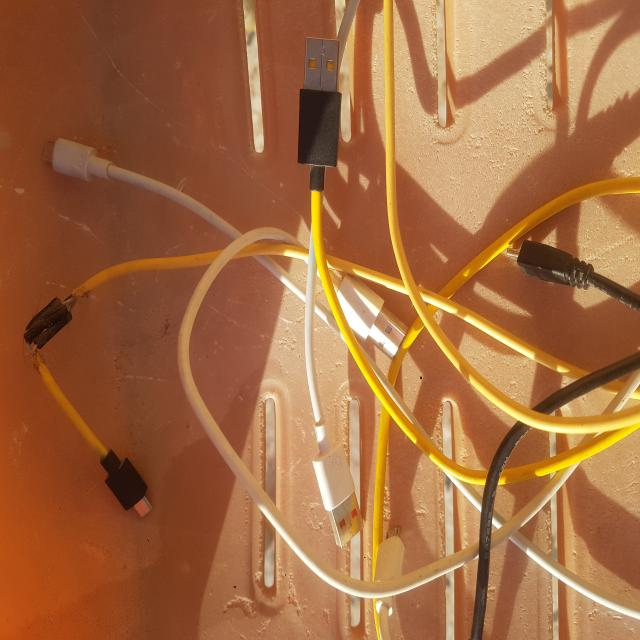electronic: (289, 22, 388, 420)
